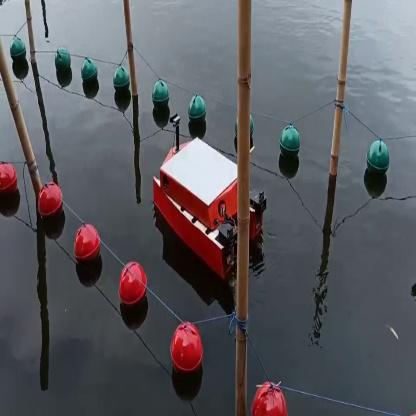green_buoy: (366, 135, 390, 182), (148, 76, 171, 113), (186, 94, 208, 128), (80, 58, 100, 89), (54, 46, 72, 80), (8, 35, 27, 67), (281, 126, 299, 158), (114, 66, 132, 96)
red_buoy: (170, 327, 206, 378), (122, 263, 146, 306), (256, 378, 284, 412), (74, 224, 100, 260), (37, 184, 63, 218), (0, 164, 18, 200)
